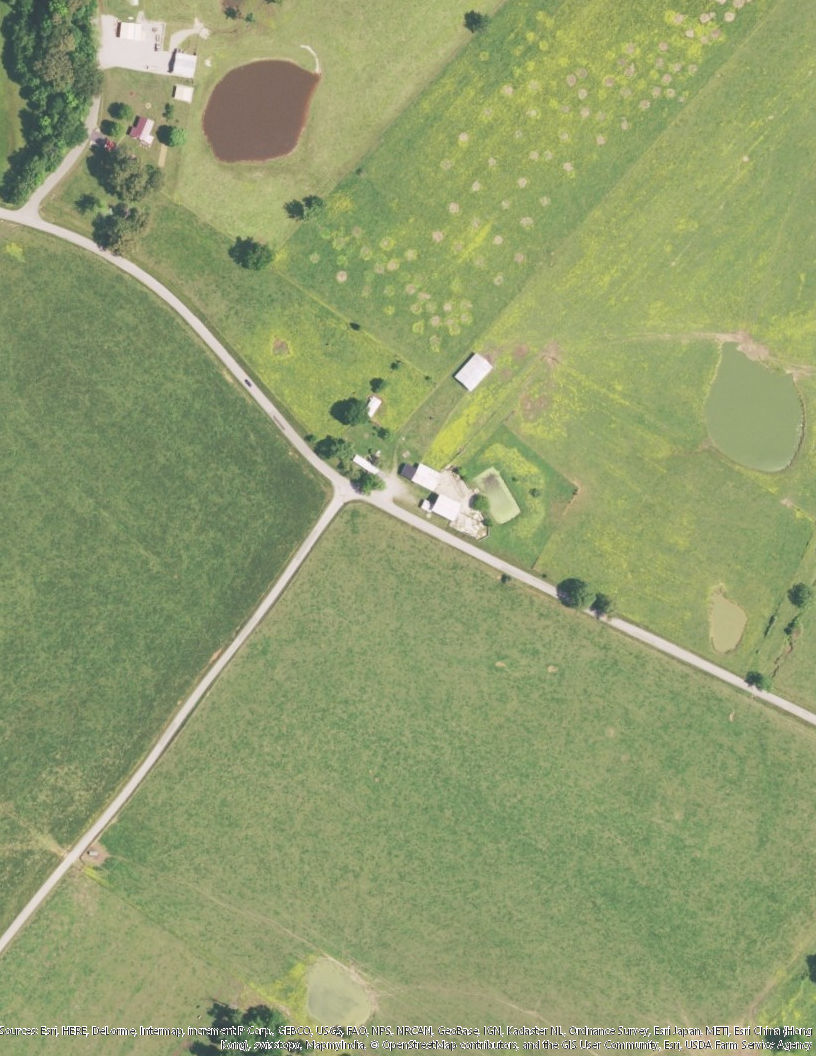cafo: (452, 349, 494, 391), (398, 456, 444, 489), (419, 493, 467, 522)
